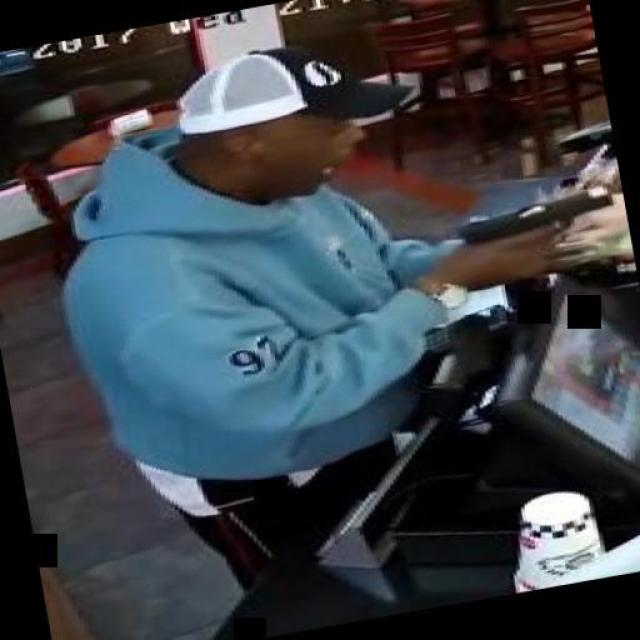gun: (453, 181, 622, 281)
